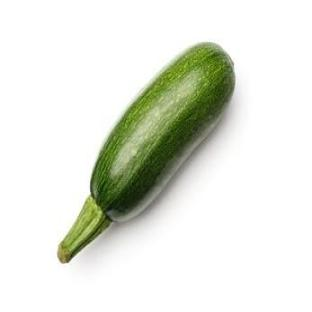Zucchini: (59, 44, 234, 261)
